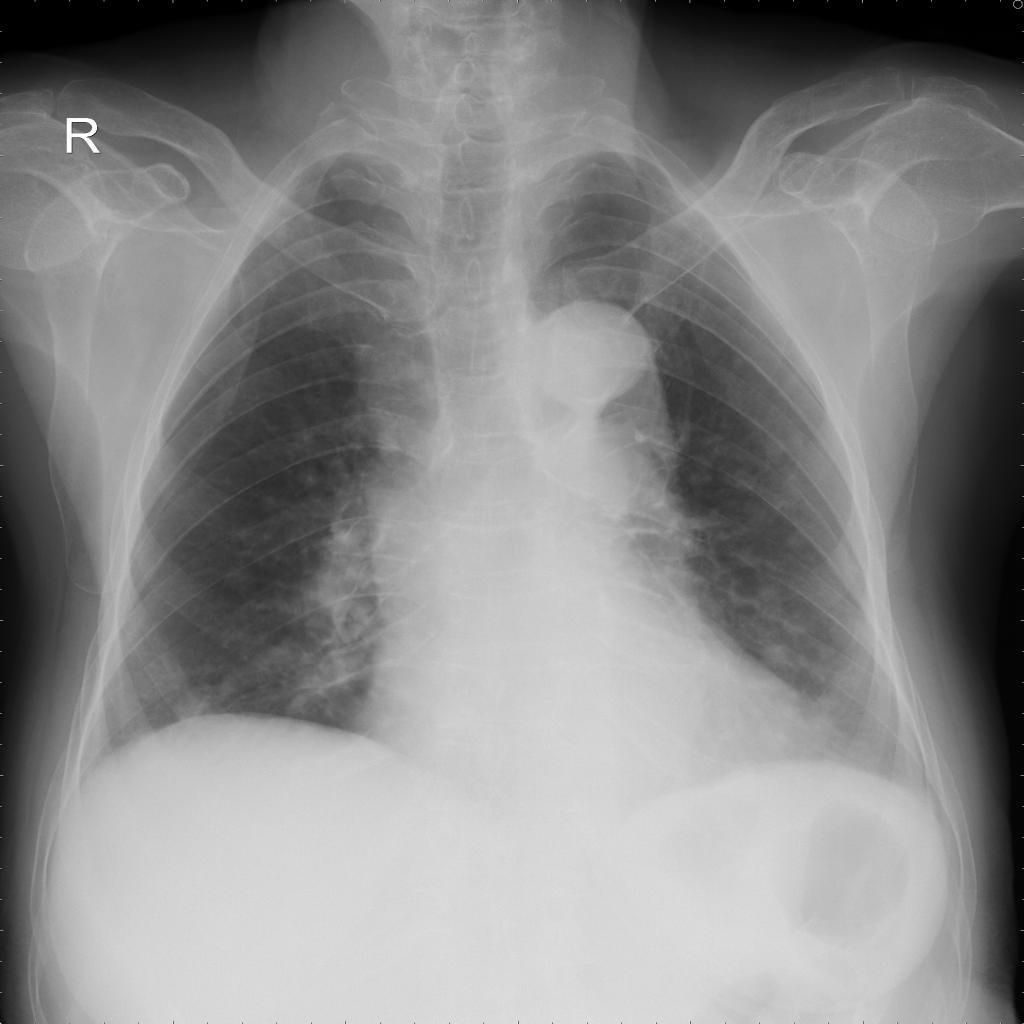Nodule: (832, 618, 862, 649), (223, 566, 256, 591), (763, 646, 790, 666), (818, 692, 840, 711)
